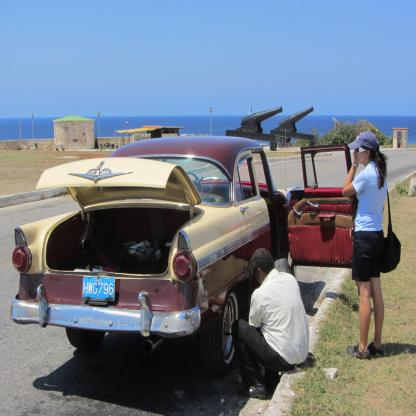Car: (11, 135, 358, 374)
